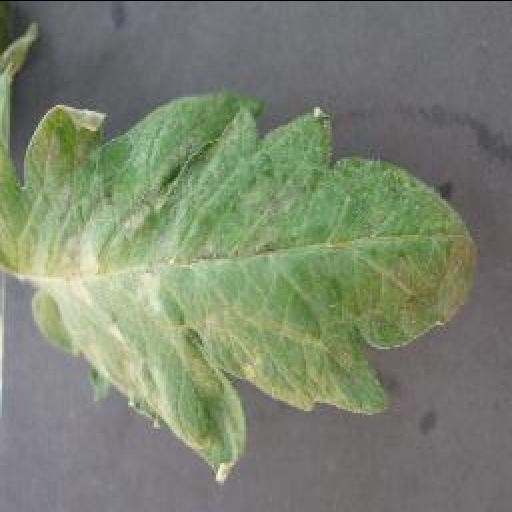disease_tomato: (0, 21, 482, 487)
